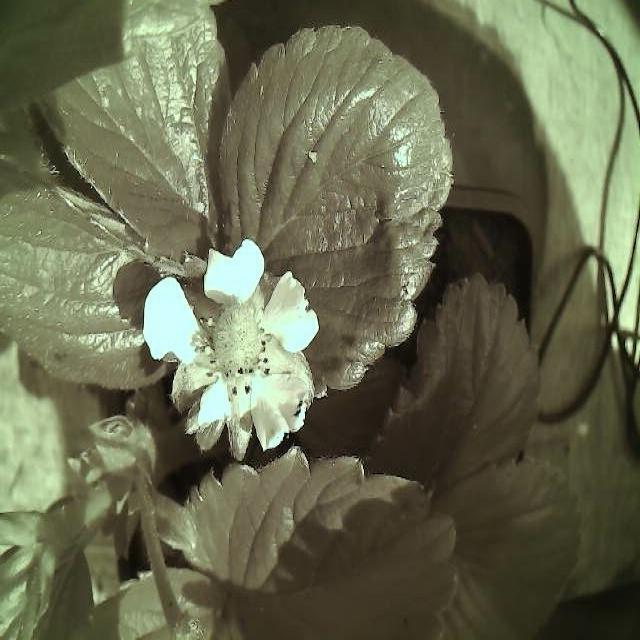flower: (141, 242, 328, 456)
